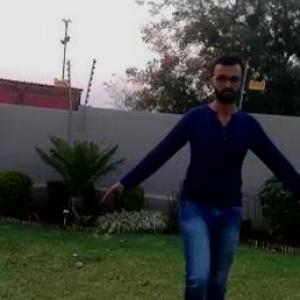land: (116, 66, 299, 299)
